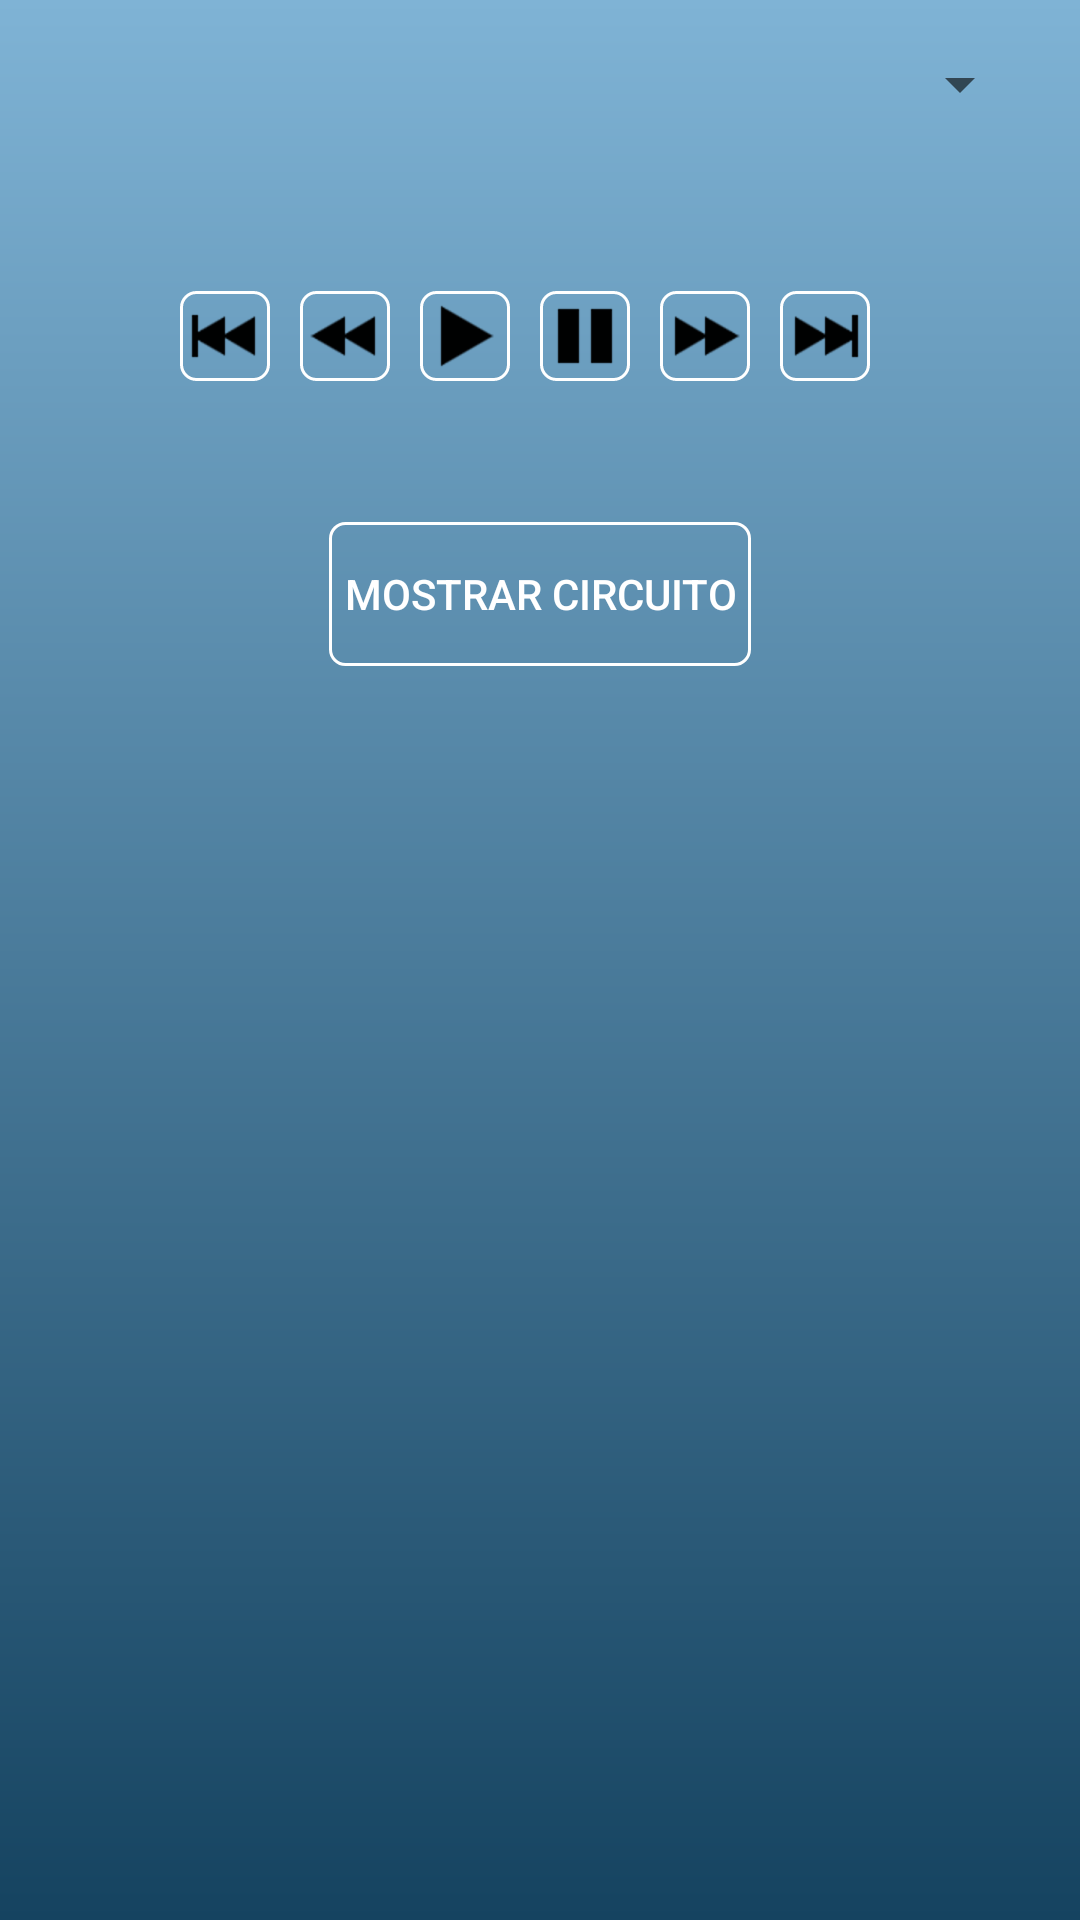

Named icons in this screenshot (1080*1920) and their centers, point (x, y):
avance pido: point (705, 336)
fin: point (825, 336)
pausa: point (585, 336)
play: point (465, 336)
rebobinar: point (345, 336)
saltar inicio: point (225, 336)
